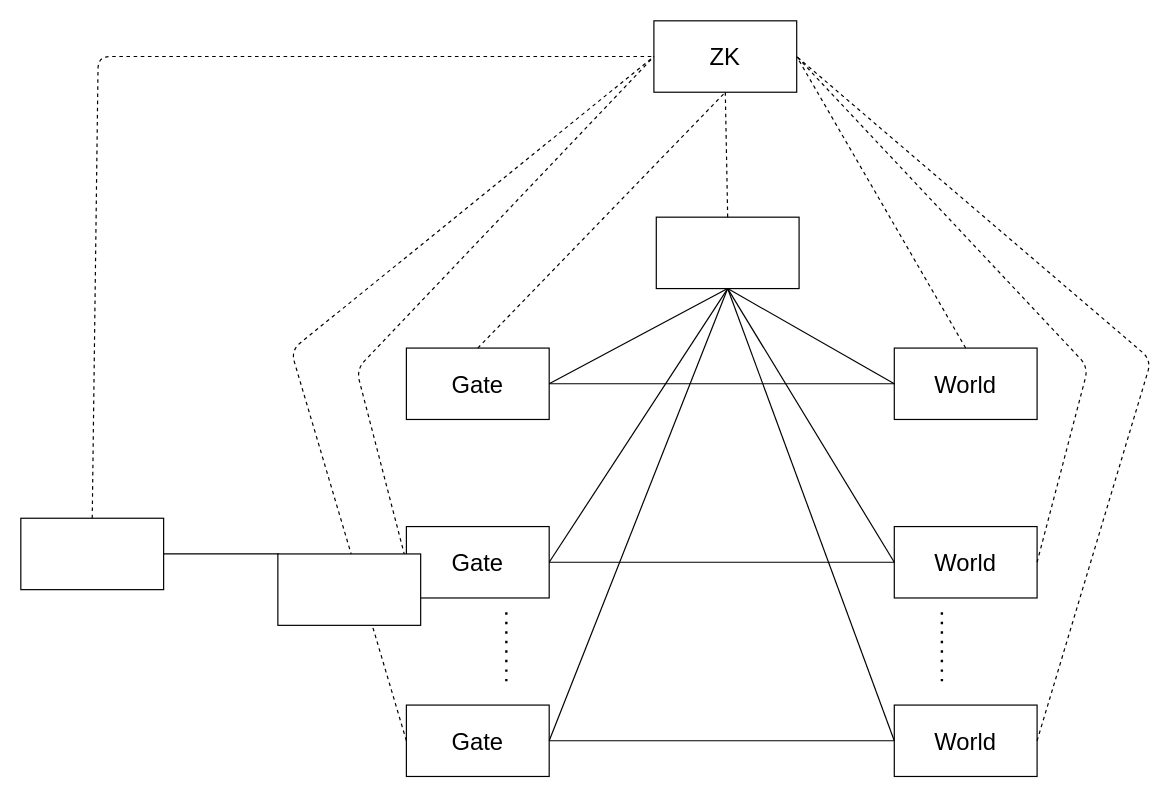
The diagram is 1173 pixels wide and 797 high, and some of its shapes have lost their labels. The shapes that lost their labels are listed below. From the top down, each one's centre as x and y in pixels, then its label:
At (x=727, y=252): "HOME".
At (x=92, y=553): "Client".
